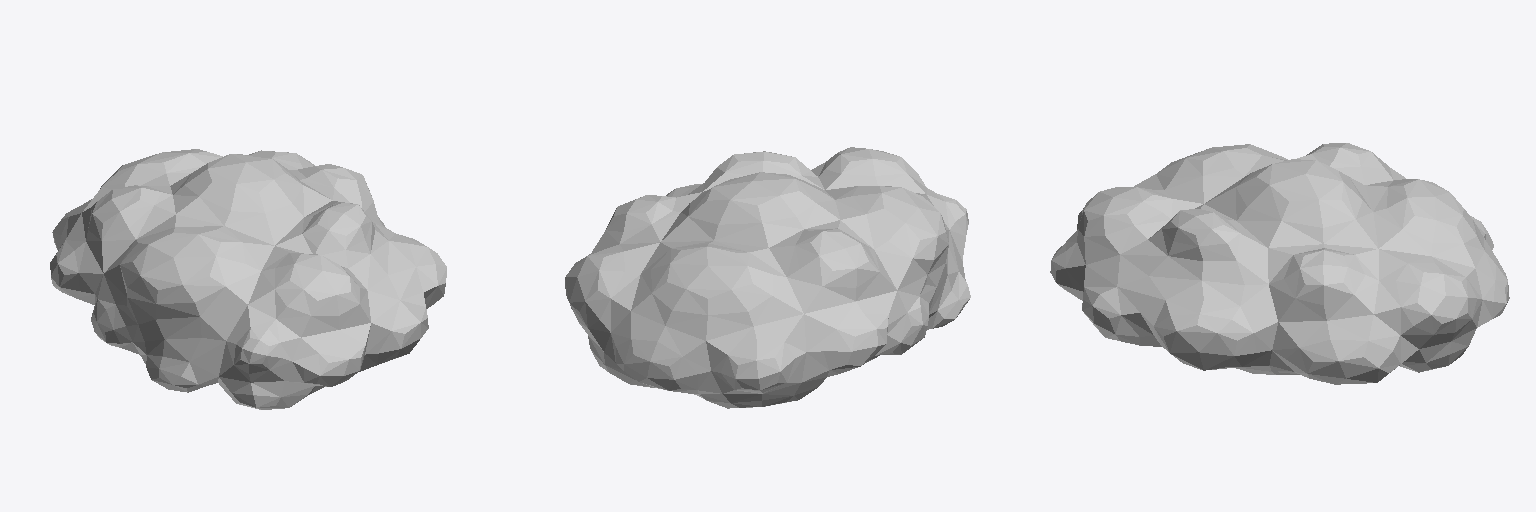
File: cloud.obj
3 renders of one model, left to right at view 1: azimuth 30°, elevation 25°; view 2: azimuth 150°, elevation 25°; view 3: azimuth 270°, elevation 25°, orthographic.
Visible parts, largest first — view 1: cloud; view 2: cloud; view 3: cloud.
Boxes of the visible parts, x1,y1,x2,y2 form: cloud: [50, 149, 446, 409]; cloud: [565, 147, 970, 408]; cloud: [1050, 143, 1509, 384].
Bounding box in the file's own units: 0.4711 × 0.2383 × 0.5937.